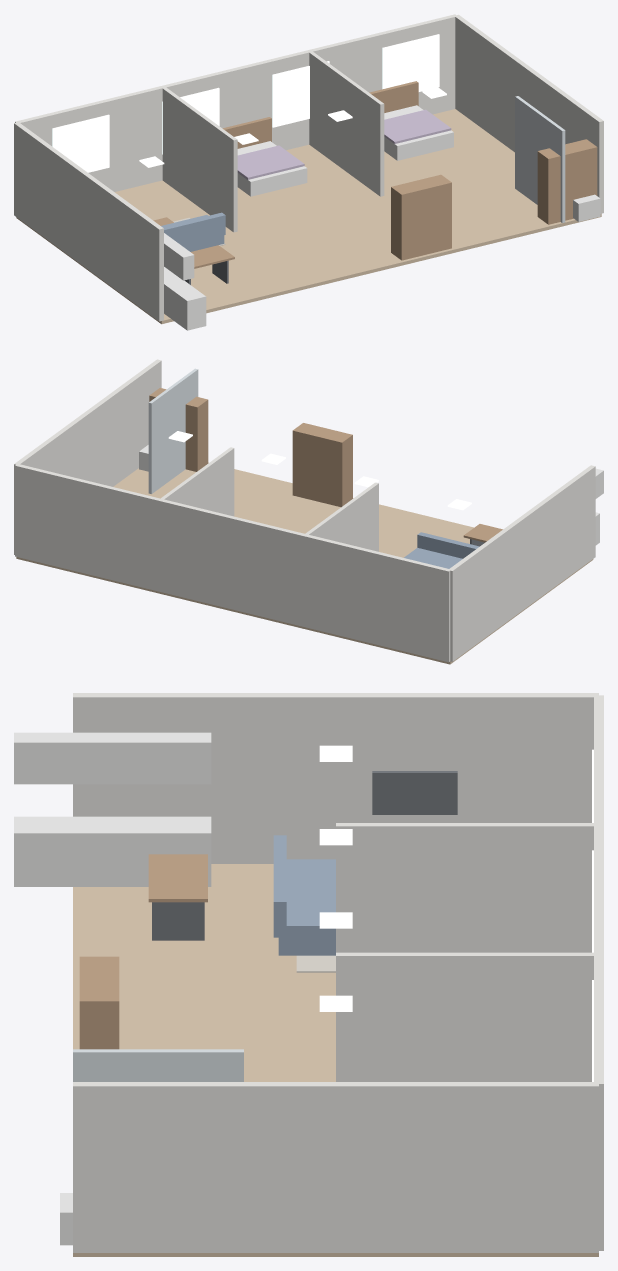
Rendered from interior-3.glb.
3 renders of one model, top to bottom at view 1: azimuth 30°, elevation 25°; view 2: azimuth 150°, elevation 25°; view 3: azimuth 270°, elevation 25°, orthographic. The views are drawn at different scales.
Bounding box in the file's own units: 14.15 × 2.9 × 8.97.
